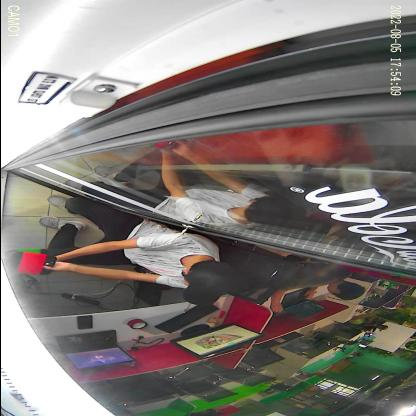green: (2, 249, 48, 258)
red: (8, 252, 57, 276)
